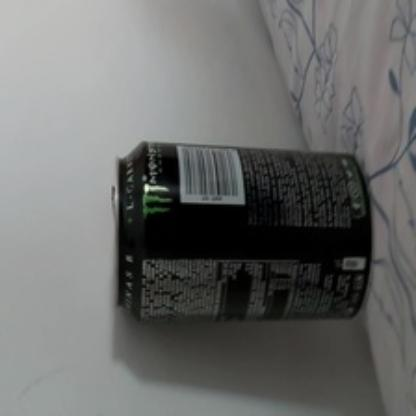Can: (112, 142, 370, 326)
